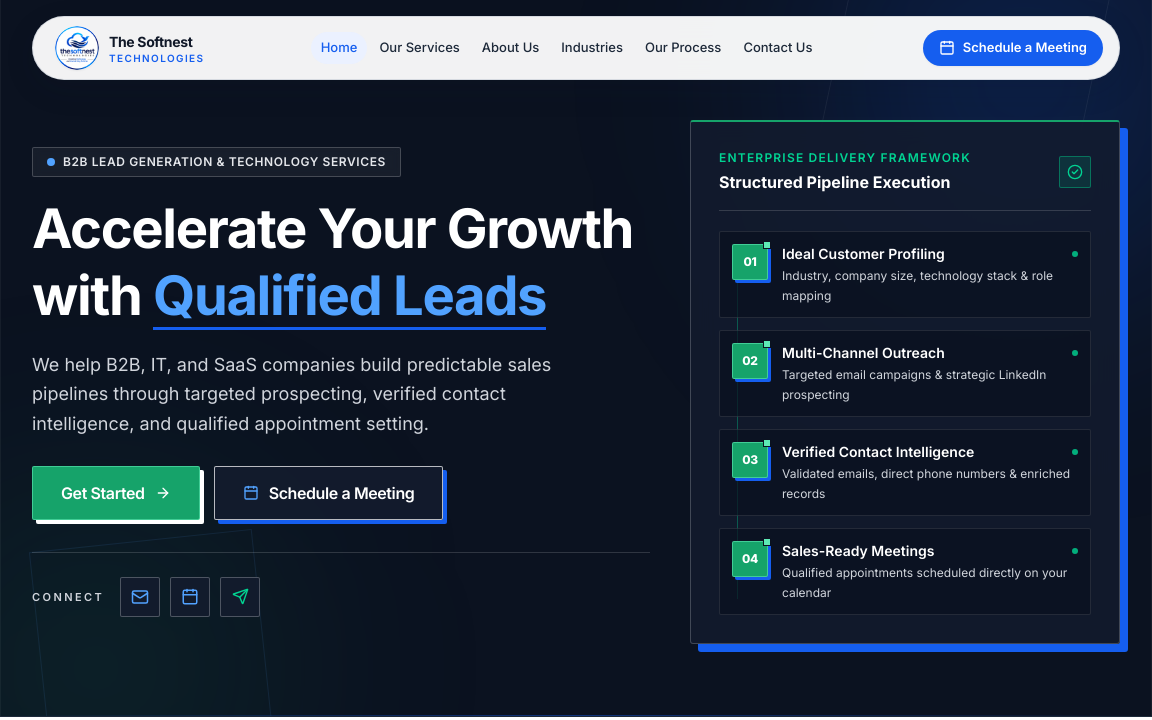
Test: The Softnest Technologies Website & Contact Form › toggles mobile navigation drawer and opens Calendly scheduling dialog
Earlier steps of the test are not shown.
Click the 1st button "Schedule a Meeting".
click(1013, 48)  # box [923,30,1103,66]
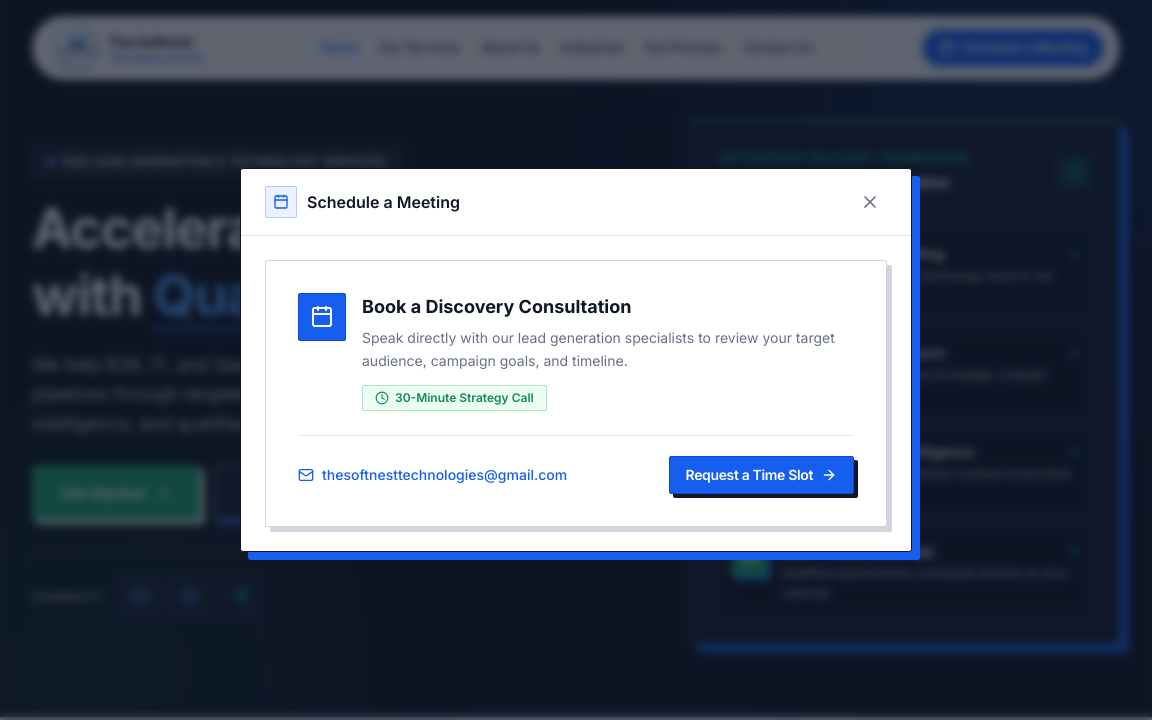
Expected: the dialog is shown
Expected: the heading "Book a Discovery Consultation" is shown, [362,296,631,317]
Click the button named "Close scheduling dialog".
click(870, 202)  # box [853,185,887,219]
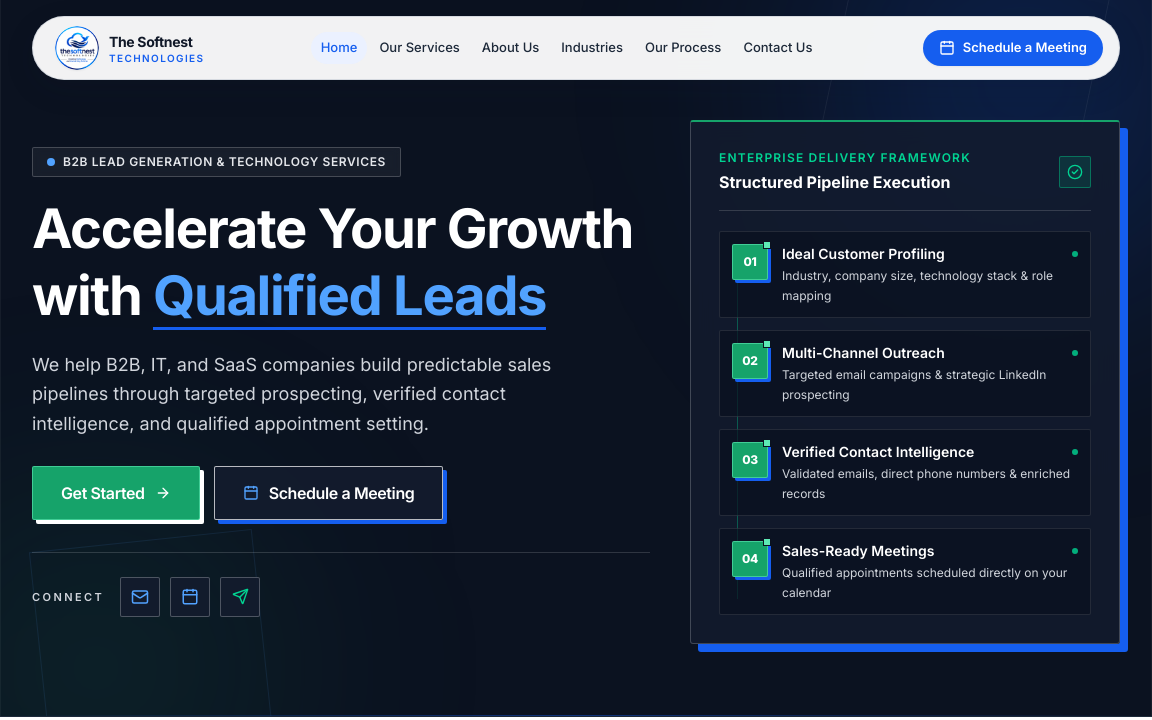
Expected: the dialog is gone
